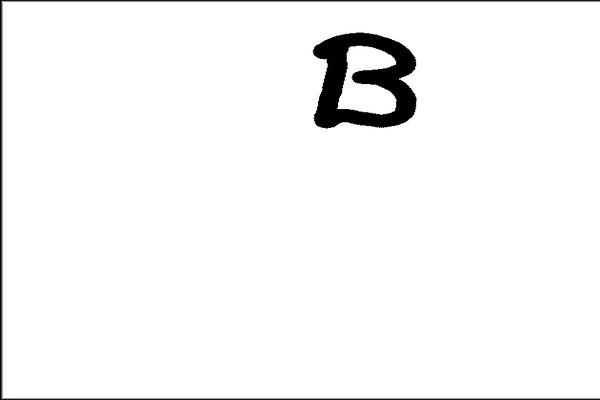B: (302, 19, 425, 143)
